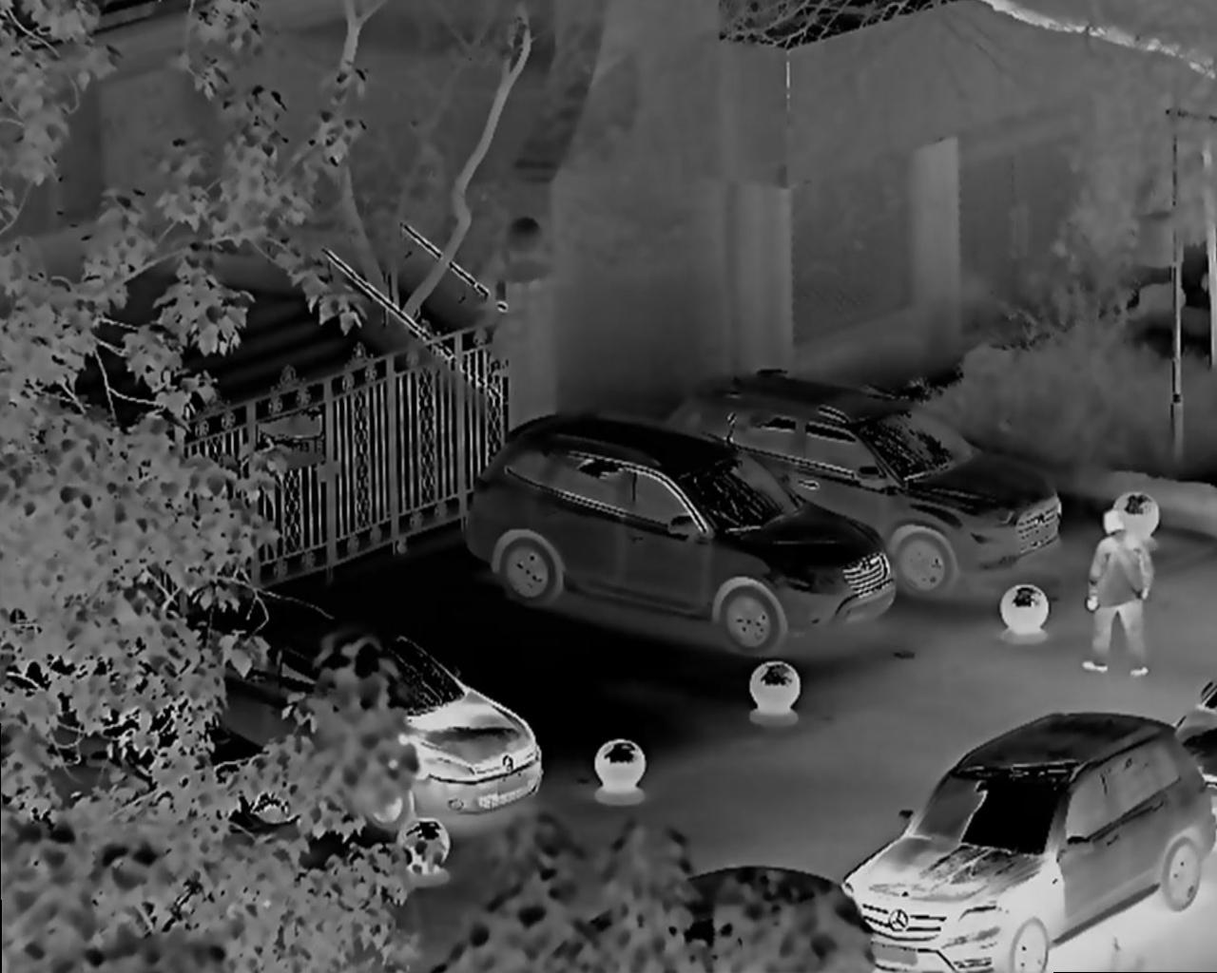person: (1079, 509, 1154, 677)
